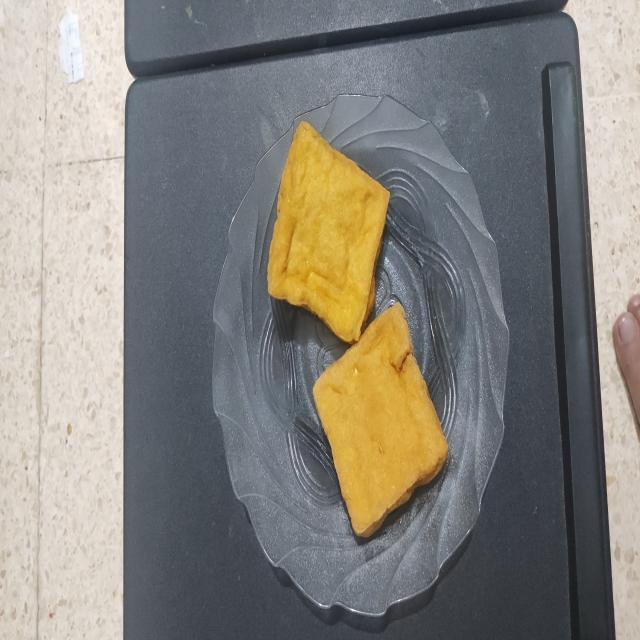tahu_goreng: (313, 303, 448, 536), (268, 122, 390, 344)
